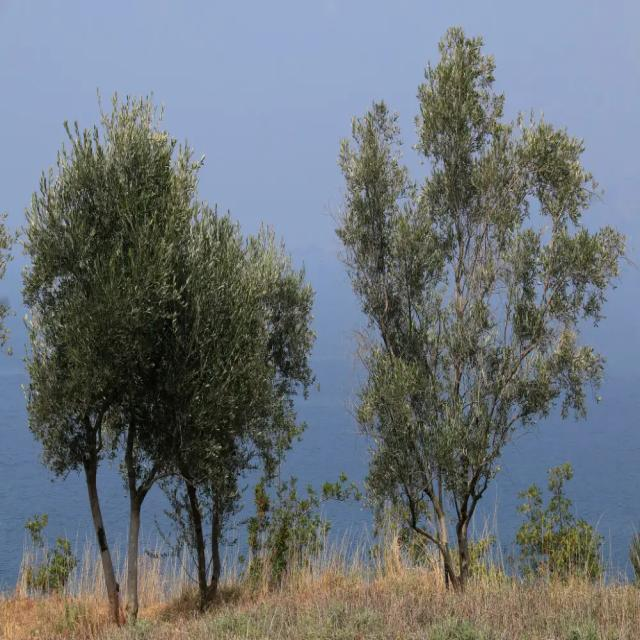ganlan: (345, 82, 622, 598), (37, 125, 312, 608)
